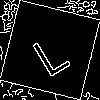L: (25, 25, 73, 78)
